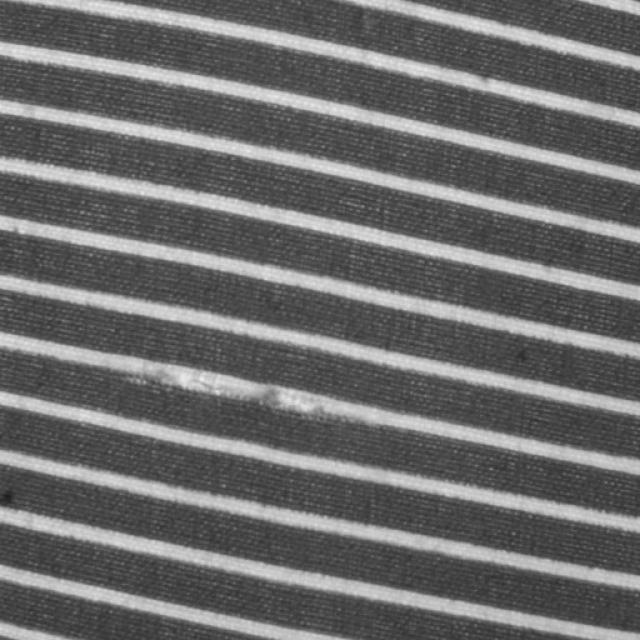Thread-Defect: (88, 351, 394, 426)
